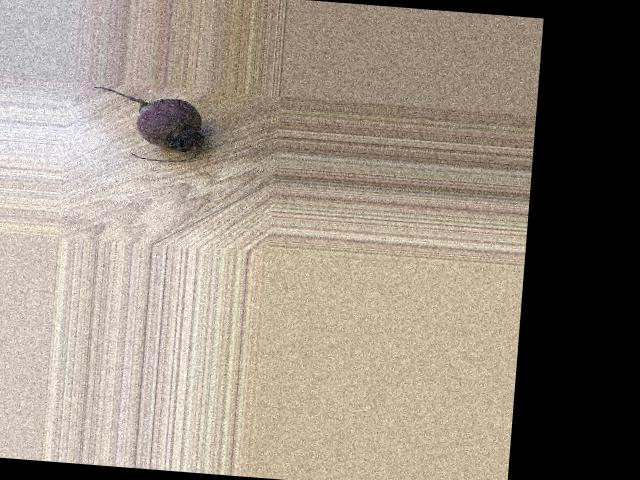beet: (88, 86, 207, 164)
